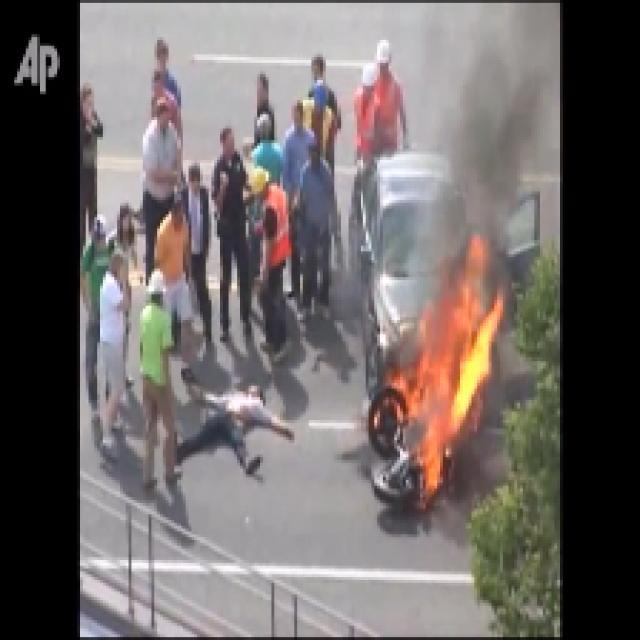Fire: (388, 243, 503, 494)
Smoke: (420, 3, 563, 246)
